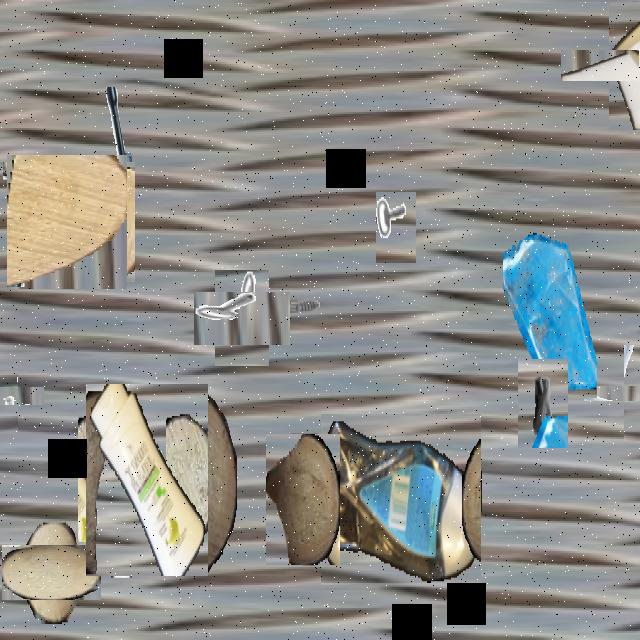glass: (503, 231, 597, 398)
metal: (74, 87, 132, 190), (204, 280, 280, 356), (518, 359, 568, 448), (274, 270, 320, 352), (376, 192, 416, 263), (604, 365, 640, 421), (0, 374, 31, 418)
plastic: (321, 414, 481, 585), (86, 384, 208, 576), (584, 26, 640, 105)
wood: (4, 158, 131, 286), (165, 391, 237, 573), (266, 434, 340, 565), (78, 414, 128, 542), (13, 534, 91, 611)
